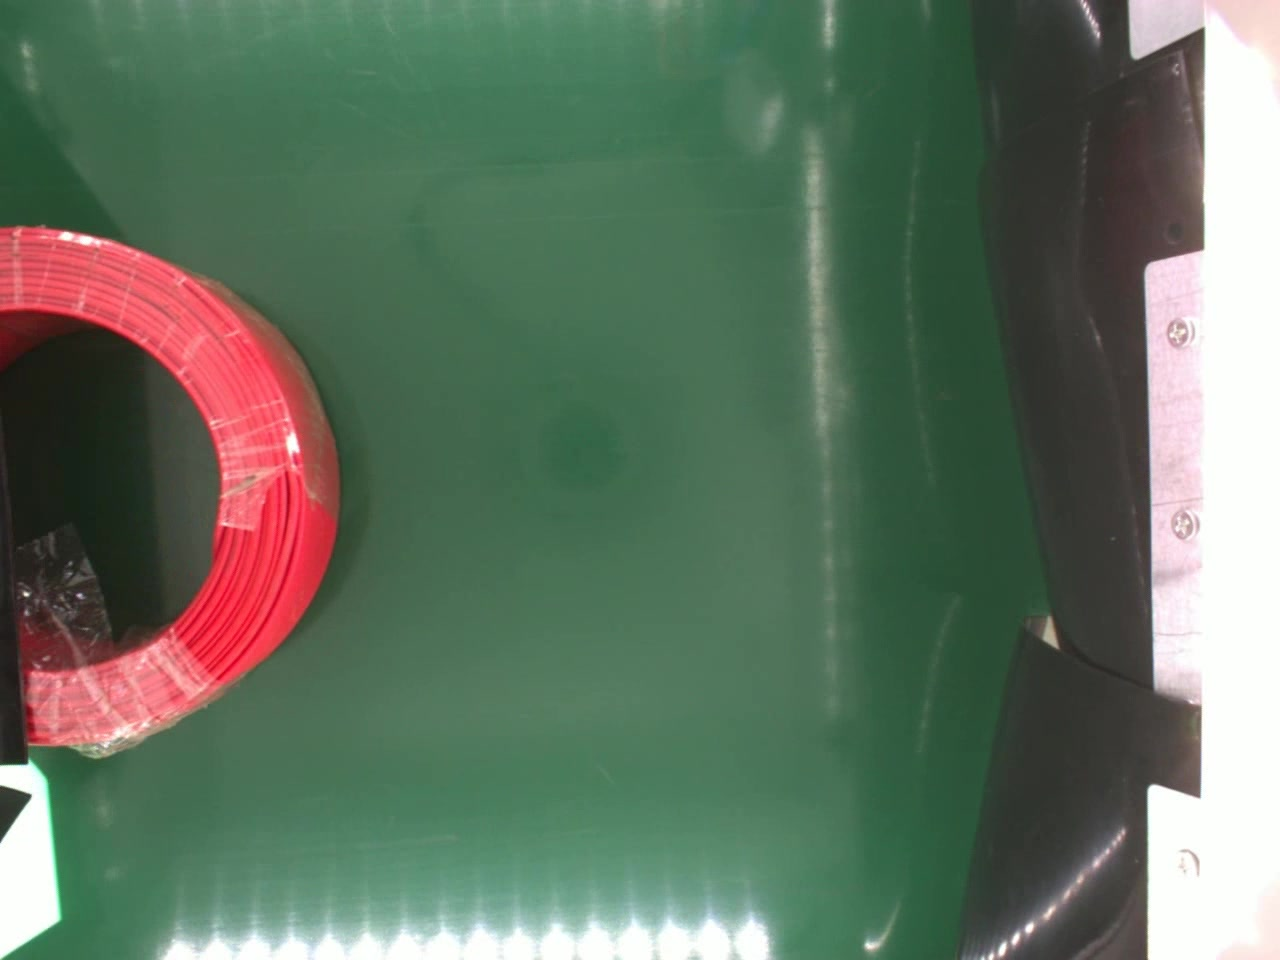red: (0, 226, 342, 738)
